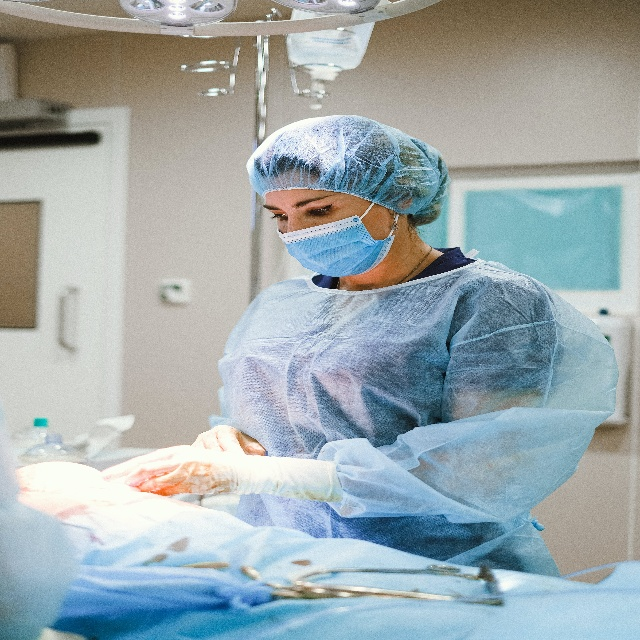Guantes: (108, 442, 231, 507), (191, 423, 265, 460)
Mascara: (270, 199, 400, 279)
